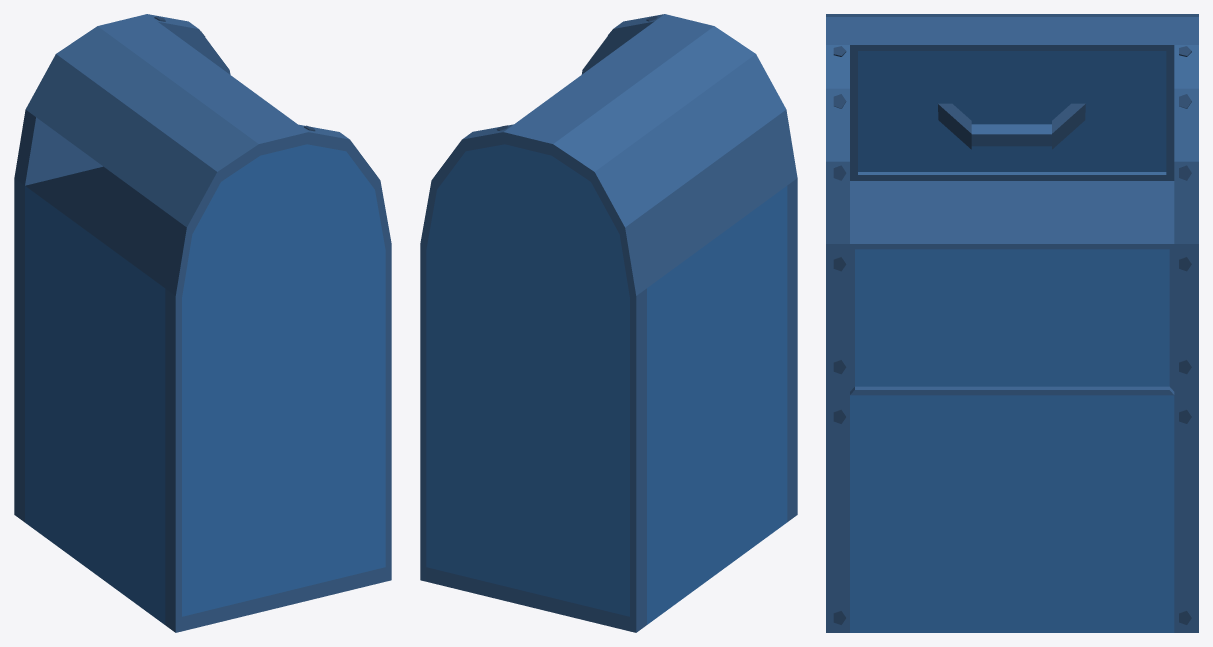
Rendered from MailPost_01.glb.
The picture shows the model from 3 angles, left to right: view 1: azimuth 30°, elevation 25°; view 2: azimuth 150°, elevation 25°; view 3: azimuth 270°, elevation 25°; orthographic projection. The views are drawn at different scales.
Visible parts, largest first — view 1: MailPost_01; view 2: MailPost_01; view 3: MailPost_01.
Boxes of the visible parts, x1=… form: MailPost_01: x1=14, y1=14, x2=391, y2=632; MailPost_01: x1=420, y1=14, x2=797, y2=632; MailPost_01: x1=826, y1=14, x2=1198, y2=632.
Size of what is drawn, in the model's own units: 0.675 by 1.36 by 0.8501.
1 material, 1 textured.
